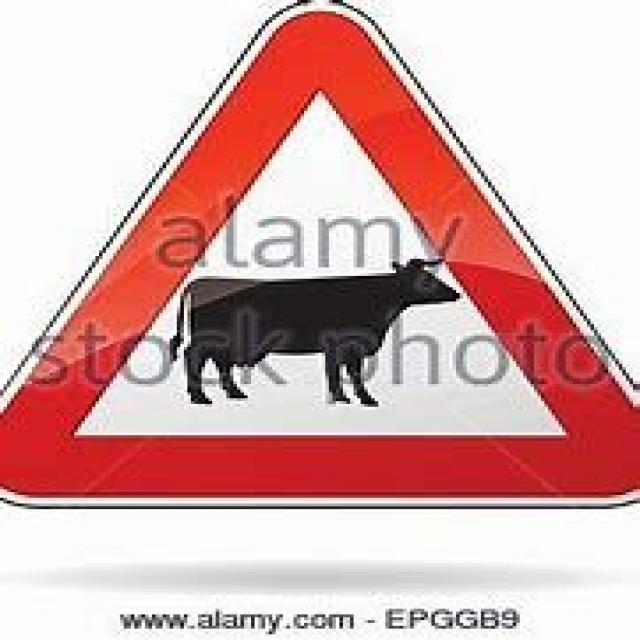CATTLE: (0, 0, 636, 512)
